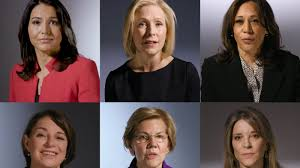middle_eastern_Female: (27, 119, 73, 168), (134, 113, 170, 168), (130, 9, 171, 53), (235, 2, 271, 48), (27, 6, 66, 48), (232, 118, 266, 164)
